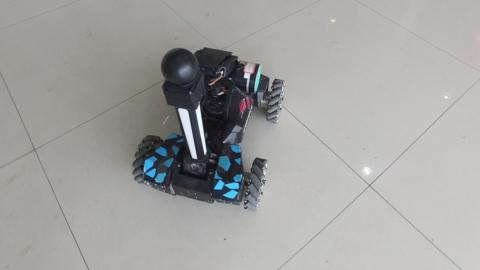chariot: (125, 29, 283, 229)
